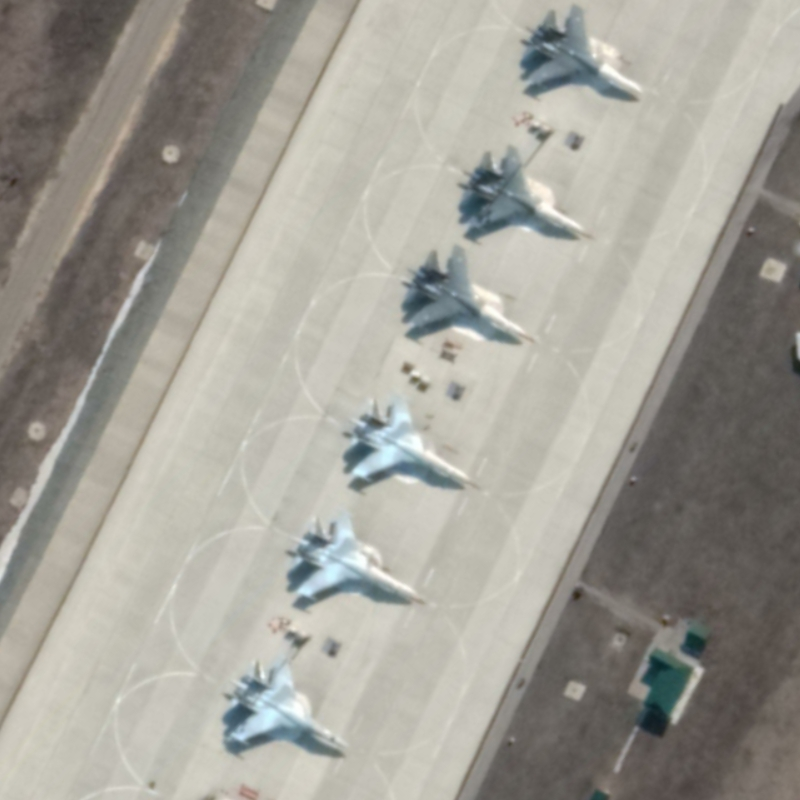A1: (404, 243, 538, 342), (289, 506, 424, 603), (347, 389, 476, 485), (461, 142, 591, 237), (524, 1, 647, 98), (227, 654, 349, 749)
